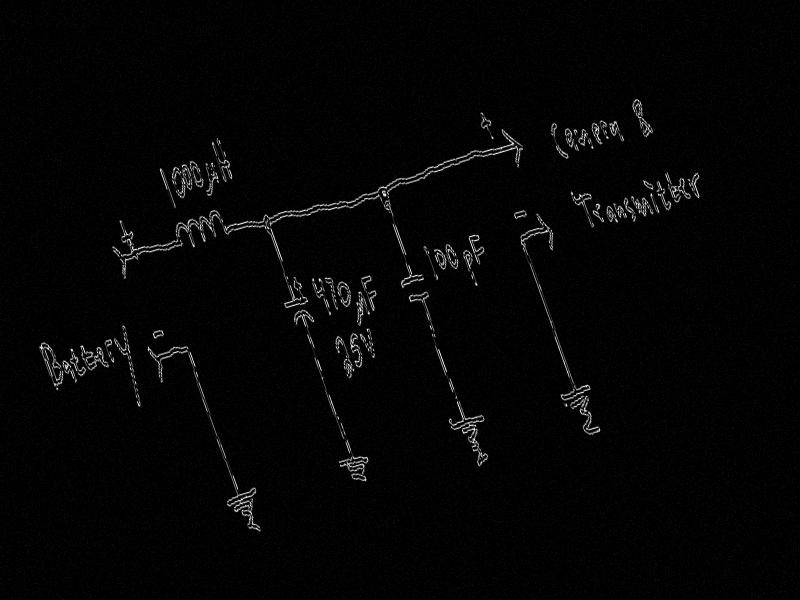-: (149, 325, 166, 342), (511, 207, 529, 221)
0: (167, 163, 191, 201), (333, 277, 357, 314), (441, 240, 463, 273), (177, 160, 197, 193), (187, 156, 207, 189), (432, 245, 451, 273)
1: (156, 163, 179, 210), (422, 242, 441, 283)
2: (331, 332, 358, 381)
4: (308, 271, 336, 319)
5: (344, 330, 369, 371)
7: (322, 272, 344, 313)
8: (629, 96, 657, 142)
9: (561, 124, 581, 156), (607, 118, 627, 148)
F: (359, 272, 383, 314), (466, 229, 490, 267)
H: (207, 134, 237, 183)
V: (357, 326, 380, 361), (684, 169, 708, 201), (589, 200, 608, 227)
m: (629, 188, 656, 222), (572, 123, 596, 154)
n: (611, 198, 629, 221)
p: (460, 246, 484, 289)
u: (195, 157, 225, 198), (346, 289, 375, 328)
